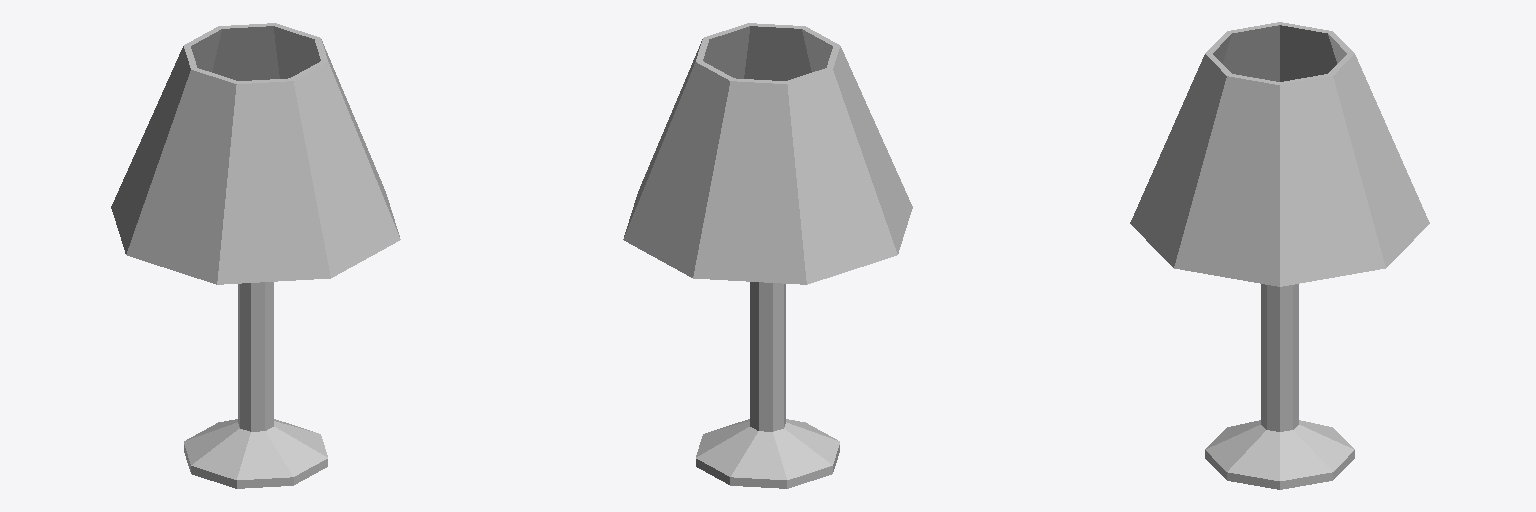
The model's file is lamp.obj.
The picture shows the model from 3 angles: view 1: azimuth 30°, elevation 25°; view 2: azimuth 150°, elevation 25°; view 3: azimuth 270°, elevation 25°; orthographic projection.
Visible parts, largest first — view 1: lamp_Cube; view 2: lamp_Cube; view 3: lamp_Cube.
Part boxes in pixels (bbox=[...]): lamp_Cube: bbox=[111, 23, 400, 488]; lamp_Cube: bbox=[623, 23, 912, 488]; lamp_Cube: bbox=[1130, 22, 1429, 489].
Size of the model in its own units: 0.32 by 0.4762 by 0.32.